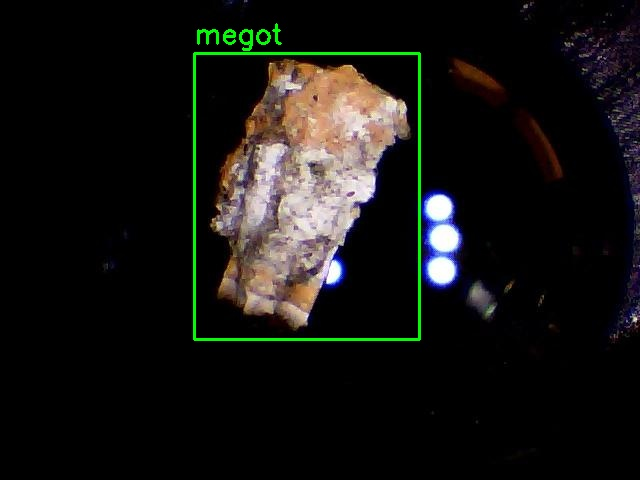megot: (194, 53, 419, 339)
